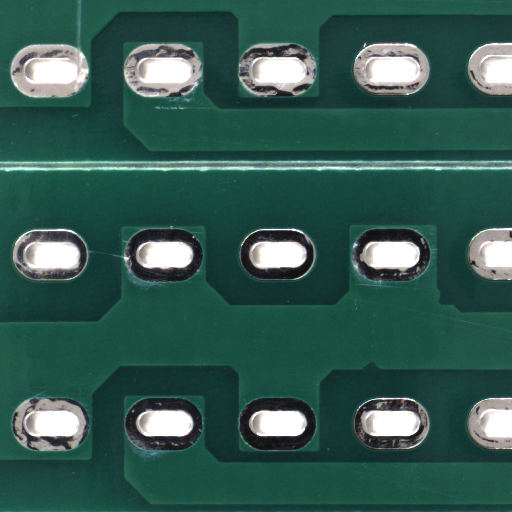Mouse_bite: (446, 298, 463, 312), (371, 366, 388, 376)
